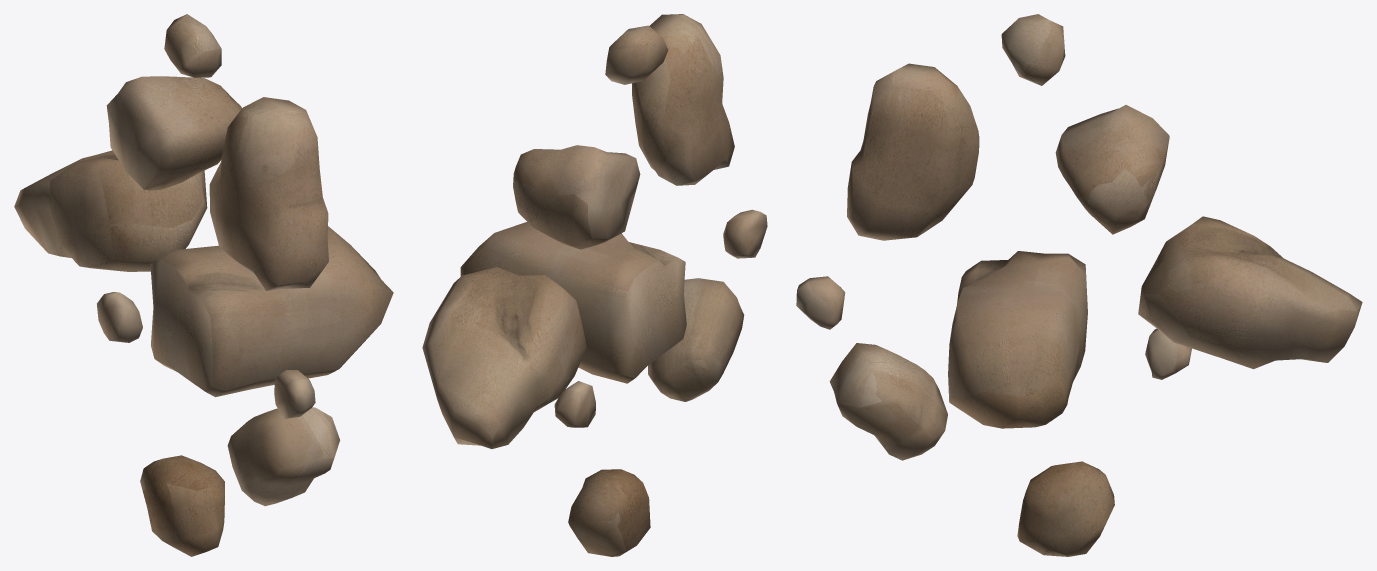
The model's file is props_coalmines_boulder_pile1.glb.
3 renders of one model, left to right at view 1: azimuth 30°, elevation 25°; view 2: azimuth 150°, elevation 25°; view 3: azimuth 270°, elevation 25°, orthographic. The views are drawn at different scales.
Parts seen in each view (by area): view 1: models/props_coalmines/boulder_pile1; view 2: models/props_coalmines/boulder_pile1; view 3: models/props_coalmines/boulder_pile1.
Boxes of the visible parts, left/top/right/bottom form: models/props_coalmines/boulder_pile1: left=14, top=14, right=393, bottom=556; models/props_coalmines/boulder_pile1: left=422, top=14, right=767, bottom=556; models/props_coalmines/boulder_pile1: left=796, top=14, right=1362, bottom=556.
Size of the model in its own units: 37.53 by 93.66 by 91.04.
1 material, 1 textured.
